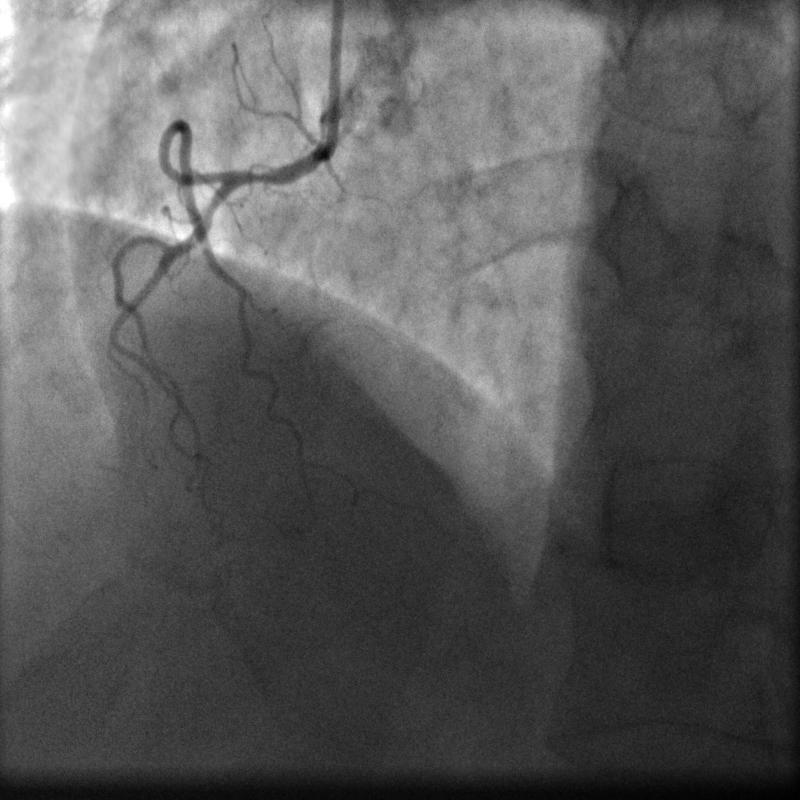Stenosis: (237, 155, 283, 196)
